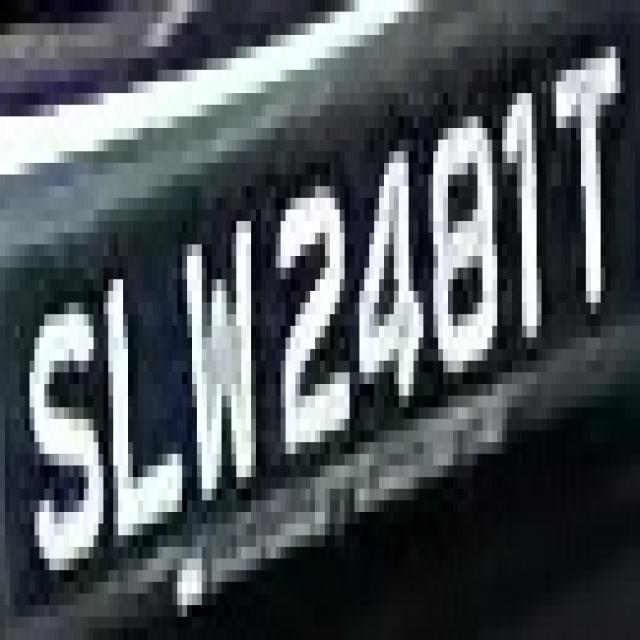1: (502, 70, 561, 419)
2: (271, 175, 364, 512)
4: (345, 105, 428, 454)
8: (423, 104, 507, 396)
L: (108, 221, 187, 547)
S: (20, 256, 103, 593)
T: (546, 0, 630, 337)
W: (177, 174, 266, 488)
